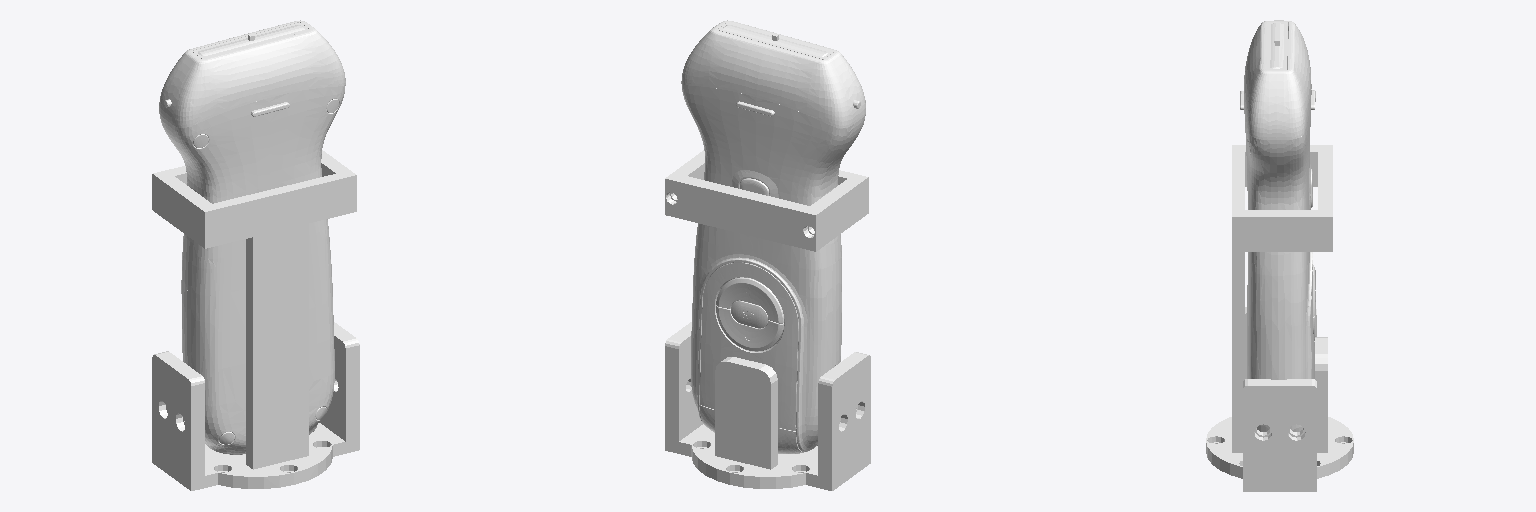
URDF robot description (conect_description):
<?xml version="1.0" encoding="utf-8"?>
<!-- This URDF was automatically created by SolidWorks to URDF Exporter! Originally created by [author] ([email redacted]) 
     Commit Version: 1.6.0-4-g7f85cfe  Build Version: 1.6.7995.38578
     For more information, please see http://wiki.ros.org/sw_urdf_exporter -->
<robot
  name="conect_description">
  <link
    name="tool_base_link">
    <inertial>
      <origin
        xyz="-0.000222405740733957 -0.000481035601624011 0.0689230138059816"
        rpy="0 0 0" />
      <mass
        value="0.116045321966342" />
      <inertia
        ixx="0.000164904816177466"
        ixy="2.02488130216797E-07"
        ixz="1.50577434202425E-06"
        iyy="0.000202510715131649"
        iyz="8.60308417309894E-06"
        izz="5.69762169244189E-05" />
    </inertial>
    <visual>
      <origin
        xyz="0 0 0"
        rpy="0 0 0" />
      <geometry>
        <mesh
          filename="package://conect_description/meshes/tool_base_link.STL" />
      </geometry>
      <material
        name="">
        <color
          rgba="1 1 1 1" />
      </material>
    </visual>
    <collision>
      <origin
        xyz="0 0 0"
        rpy="0 0 0" />
      <geometry>
        <mesh
          filename="package://conect_description/meshes/tool_base_link.STL" />
      </geometry>
    </collision>
  </link>
  <link
    name="tool_end_link">
    <inertial>
      <origin
        xyz="8.79459612690391E-05 -8.1632458962142E-05 -0.00099852848210466"
        rpy="0 0 0" />
      <mass
        value="8.00000000000001E-06" />
      <inertia
        ixx="5.33333333333336E-12"
        ixy="1.46216601377879E-27"
        ixz="1.41756869850412E-27"
        iyy="5.33333333333336E-12"
        iyz="-3.92889708655019E-28"
        izz="5.33333333333334E-12" />
    </inertial>
    <visual>
      <origin
        xyz="0 0 0"
        rpy="0 0 0" />
      <geometry>
        <mesh
          filename="package://conect_description/meshes/tool_end_link.STL" />
      </geometry>
      <material
        name="">
        <color
          rgba="1 1 1 1" />
      </material>
    </visual>
    <collision>
      <origin
        xyz="0 0 0"
        rpy="0 0 0" />
      <geometry>
        <mesh
          filename="package://conect_description/meshes/tool_end_link.STL" />
      </geometry>
    </collision>
  </link>
  <joint
    name="conect"
    type="fixed">
    <origin
      xyz="-0.00272826464929472 -0.00102217054955704 0.173424918708578"
      rpy="0 0 0" />
    <parent
      link="tool_base_link" />
    <child
      link="tool_end_link" />
    <axis
      xyz="0 0 0" />
  </joint>
</robot>

--- Render facts (derived) ---
Views: 3 orthographic renders of the robot side by side, from view 1: azimuth 30°, elevation 25°; view 2: azimuth 150°, elevation 25°; view 3: azimuth 270°, elevation 25°.
Model conect_description with 2 links and 1 joints (1 fixed), rooted at tool_base_link, posed every joint at zero.
Visible links, largest first — view 1: tool_base_link; view 2: tool_base_link; view 3: tool_base_link.
Link boxes in pixels (x1,y1,x2,y2): tool_base_link: (152, 20, 359, 490); tool_base_link: (665, 20, 870, 490); tool_base_link: (1206, 20, 1353, 491).
Size in the robot's own frame: 0.075 by 0.057 by 0.1735 metres.
Meshes: 2 distinct files referenced, 2 mesh visuals loaded (2 binary STL).